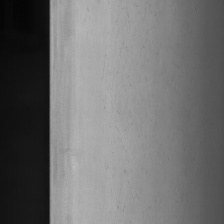silk_spot: (94, 14, 147, 158)
